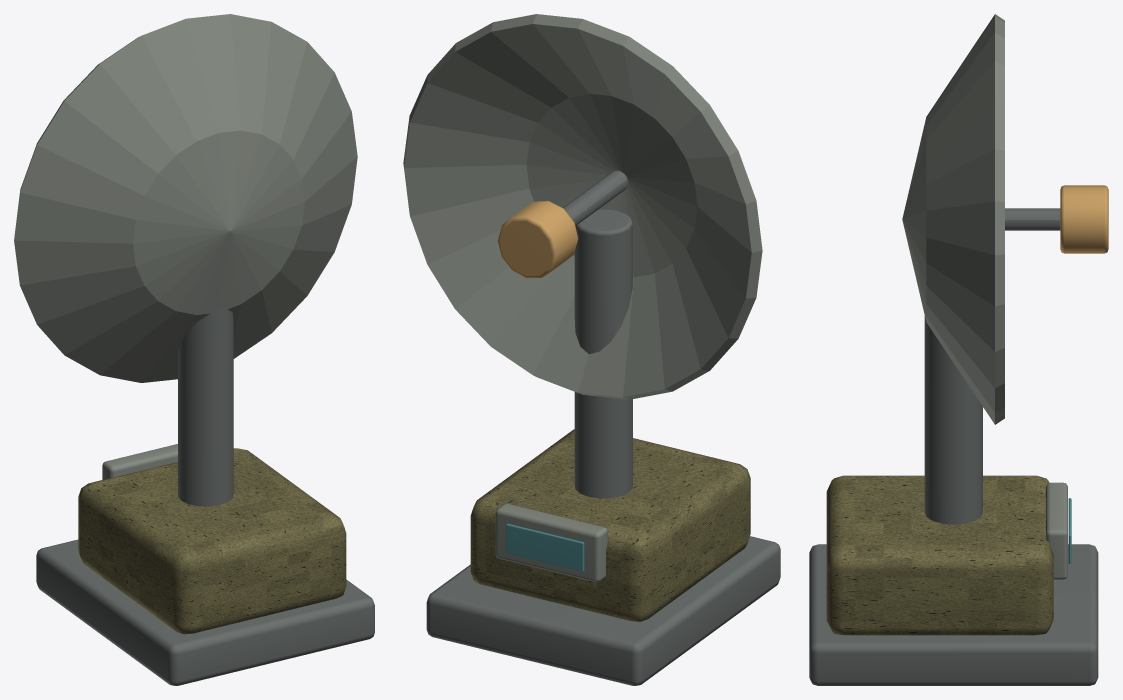
File: STK-M03.fbx
3 views of the same model, side by side, from view 1: azimuth 30°, elevation 25°; view 2: azimuth 150°, elevation 25°; view 3: azimuth 270°, elevation 25° (orthographic). The views are drawn at different scales.
Visible parts, largest first — view 1: STK-M03_Edge, STK-M03_Armor, STK-M03_Steel; view 2: STK-M03_Edge, STK-M03_Steel, STK-M03_Armor, STK-M03_Brass, STK-M03_Optic; view 3: STK-M03_Armor, STK-M03_Steel, STK-M03_Edge, STK-M03_Brass.
Boxes of the visible parts, x1,y1,x2,y2 form: STK-M03_Edge: [14, 14, 357, 479]; STK-M03_Armor: [78, 448, 346, 634]; STK-M03_Steel: [36, 307, 374, 685]; STK-M03_Edge: [403, 14, 762, 581]; STK-M03_Steel: [426, 170, 780, 685]; STK-M03_Armor: [470, 429, 750, 621]; STK-M03_Brass: [497, 201, 578, 278]; STK-M03_Optic: [506, 523, 584, 571]; STK-M03_Armor: [826, 475, 1053, 635]; STK-M03_Steel: [809, 208, 1098, 685]; STK-M03_Edge: [902, 14, 1067, 579]; STK-M03_Brass: [1060, 185, 1108, 253].
Bounding box in the file's own units: 120 × 194 × 87.
